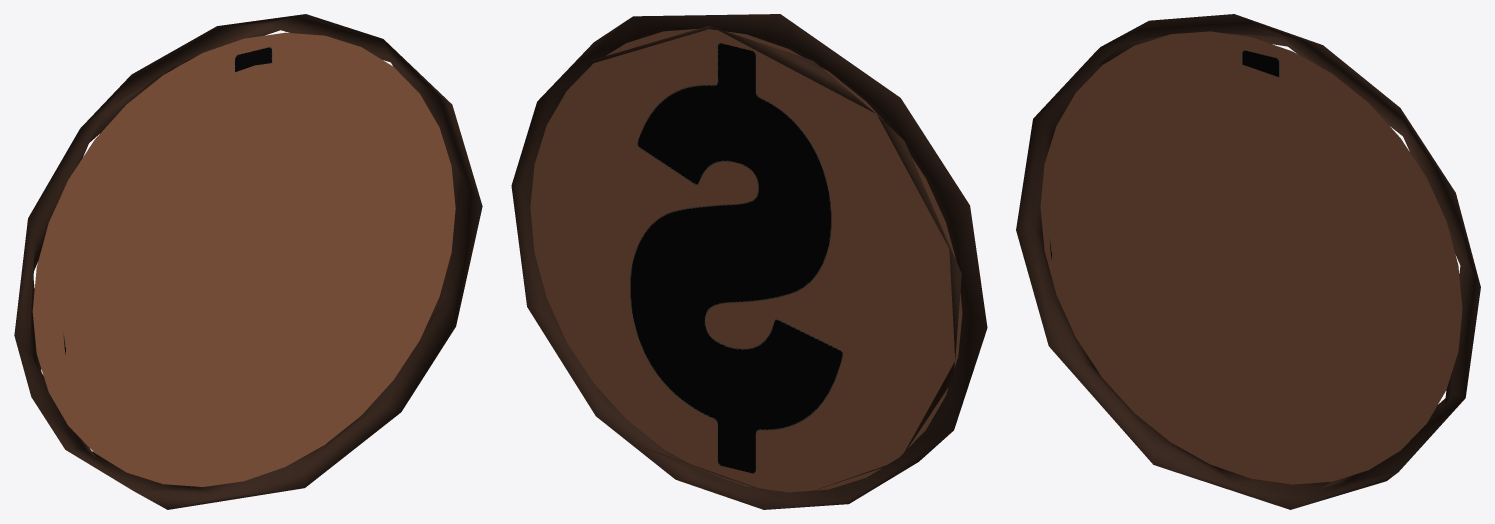
File: 0.25 Coin Money.fbx
3 views of the same model, side by side, from view 1: azimuth 30°, elevation 25°; view 2: azimuth 150°, elevation 25°; view 3: azimuth 330°, elevation 25° (orthographic). The views are drawn at different scales.
Visible parts, largest first — view 1: 25 Cent.002, 25 Cent; view 2: 25 Cent.002, 25 Cent; view 3: 25 Cent.002, 25 Cent.
Boxes of the visible parts, box(x1,y1,x2,y2) form: 25 Cent.002: box(32, 32, 455, 486); 25 Cent: box(14, 14, 482, 509); 25 Cent.002: box(530, 28, 962, 492); 25 Cent: box(511, 14, 987, 509); 25 Cent.002: box(1040, 31, 1462, 484); 25 Cent: box(1016, 14, 1480, 509).
Size of the model in its own units: 201 by 201 by 12.2.
